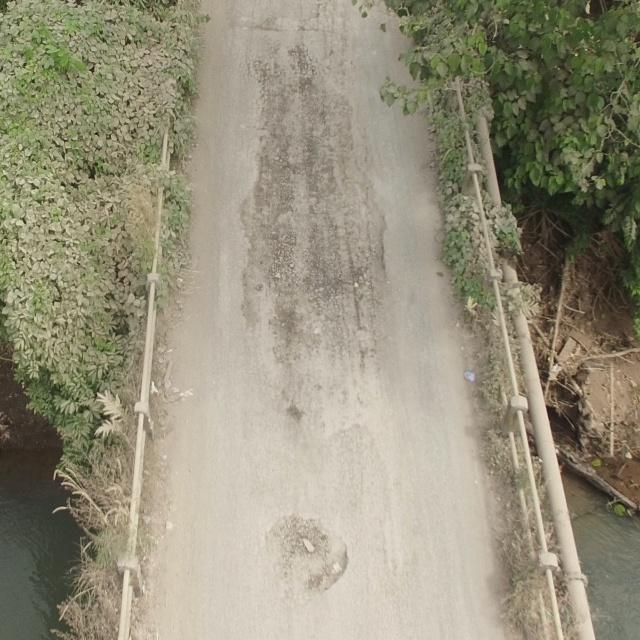BACHE: (247, 77, 385, 431), (263, 517, 350, 599)
